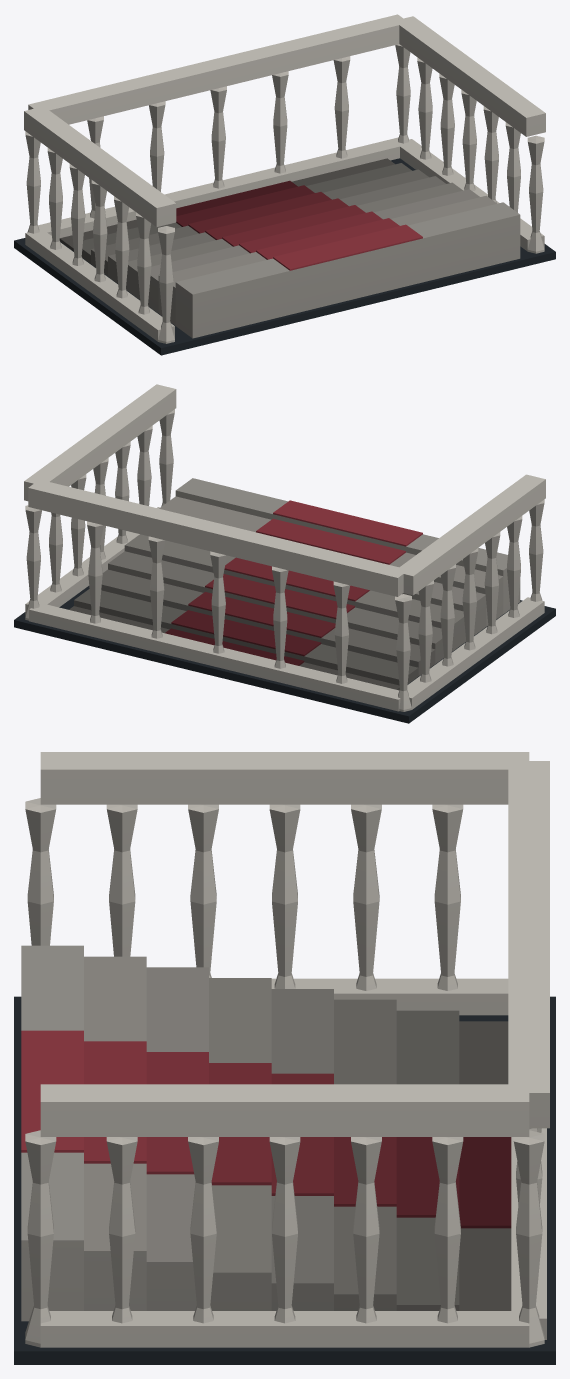
File: palace_stairwell_down.glb
The picture shows the model from 3 angles, top to bottom: view 1: azimuth 30°, elevation 25°; view 2: azimuth 150°, elevation 25°; view 3: azimuth 270°, elevation 25°; orthographic projection. The views are drawn at different scales.
Parts seen in each view (by area): view 1: palace_stairwell_down; view 2: palace_stairwell_down; view 3: palace_stairwell_down.
Boxes of the visible parts, x1=… form: palace_stairwell_down: x1=14, y1=14, x2=555, y2=355; palace_stairwell_down: x1=14, y1=384, x2=555, y2=723; palace_stairwell_down: x1=14, y1=752, x2=555, y2=1364.
Bounding box in the file's own units: 2.82 × 0.965 × 1.82.
